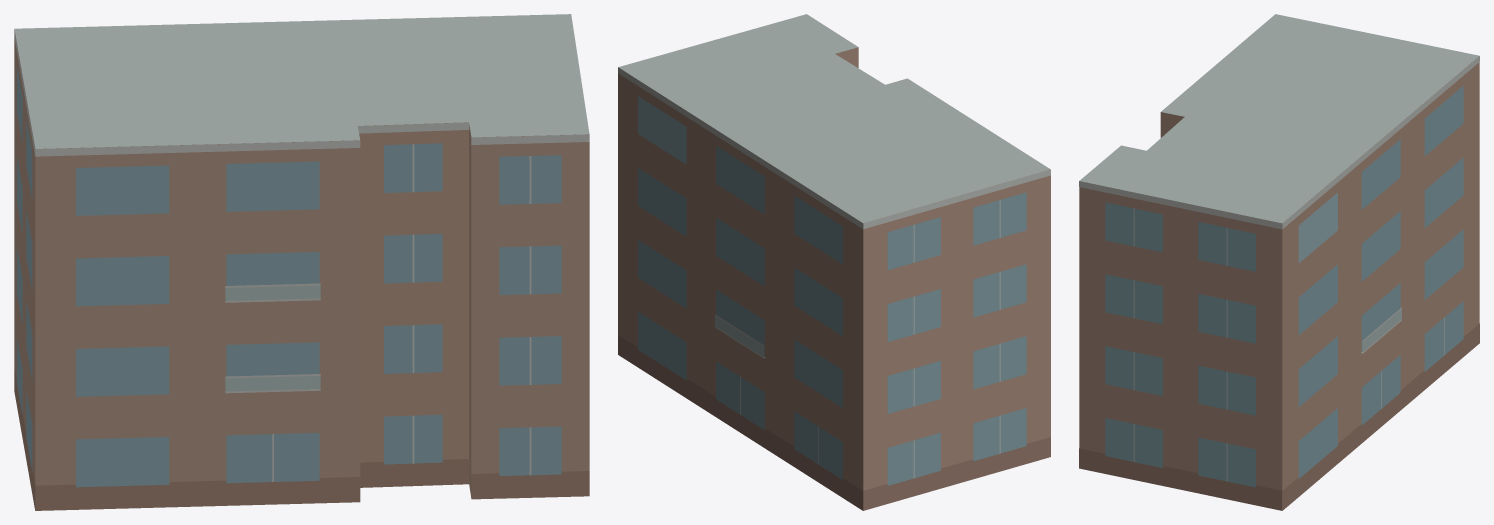
File: survey-upis-32884305.glb
3 views of the same model, side by side, from view 1: azimuth 30°, elevation 25°; view 2: azimuth 150°, elevation 25°; view 3: azimuth 270°, elevation 25° (orthographic). The views are drawn at different scales.
Visible parts, largest first — view 1: survey-upis-32884305.tmp; view 2: survey-upis-32884305.tmp; view 3: survey-upis-32884305.tmp.
Part boxes in pixels (x1,y1,x2,y2): survey-upis-32884305.tmp: [14, 14, 589, 510]; survey-upis-32884305.tmp: [618, 14, 1050, 510]; survey-upis-32884305.tmp: [1079, 14, 1479, 510].
Size of the model in its own units: 18.13 by 11.6 by 14.66.
